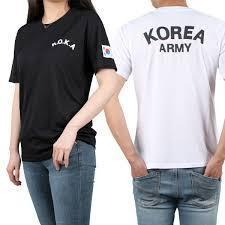Tshirt: (109, 3, 225, 172), (7, 6, 120, 162)
